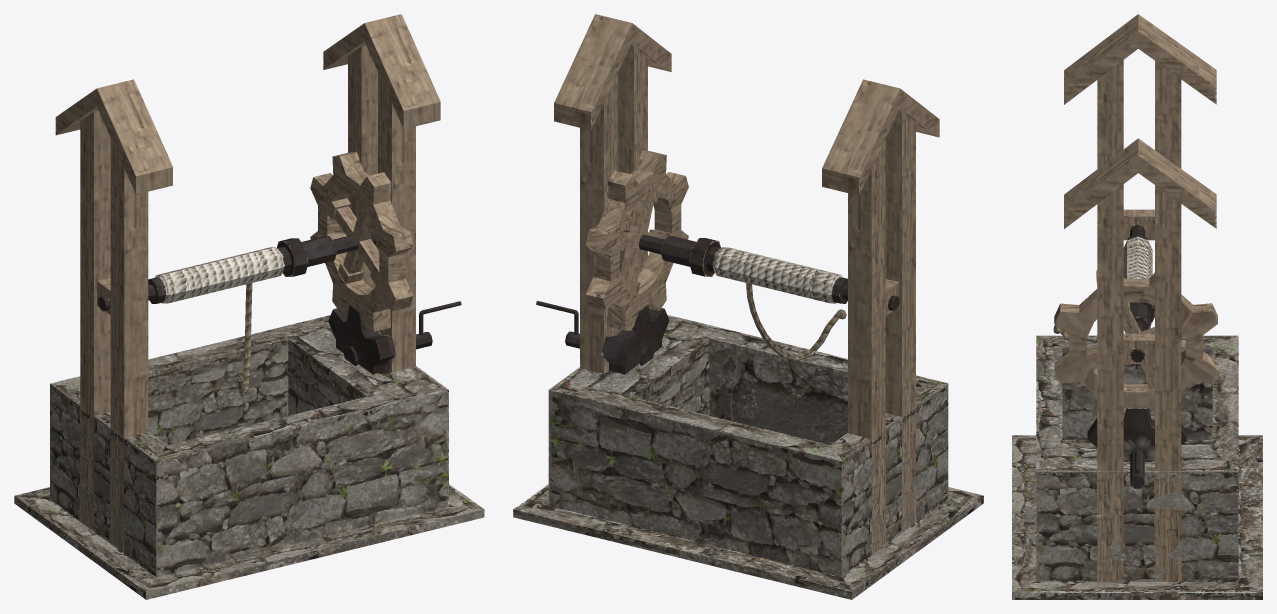
Rendered from pozo.fbx.
The picture shows the model from 3 angles, left to right: view 1: azimuth 30°, elevation 25°; view 2: azimuth 150°, elevation 25°; view 3: azimuth 270°, elevation 25°; orthographic projection. The views are drawn at different scales.
Parts seen in each view (by area): view 1: pozo; view 2: pozo; view 3: pozo.
Part boxes in pixels (left/top/right/bottom): pozo: left=14, top=14, right=484, bottom=599; pozo: left=513, top=14, right=983, bottom=599; pozo: left=1012, top=14, right=1262, bottom=599.
Bounding box in the file's own units: 364 × 420 × 219.
